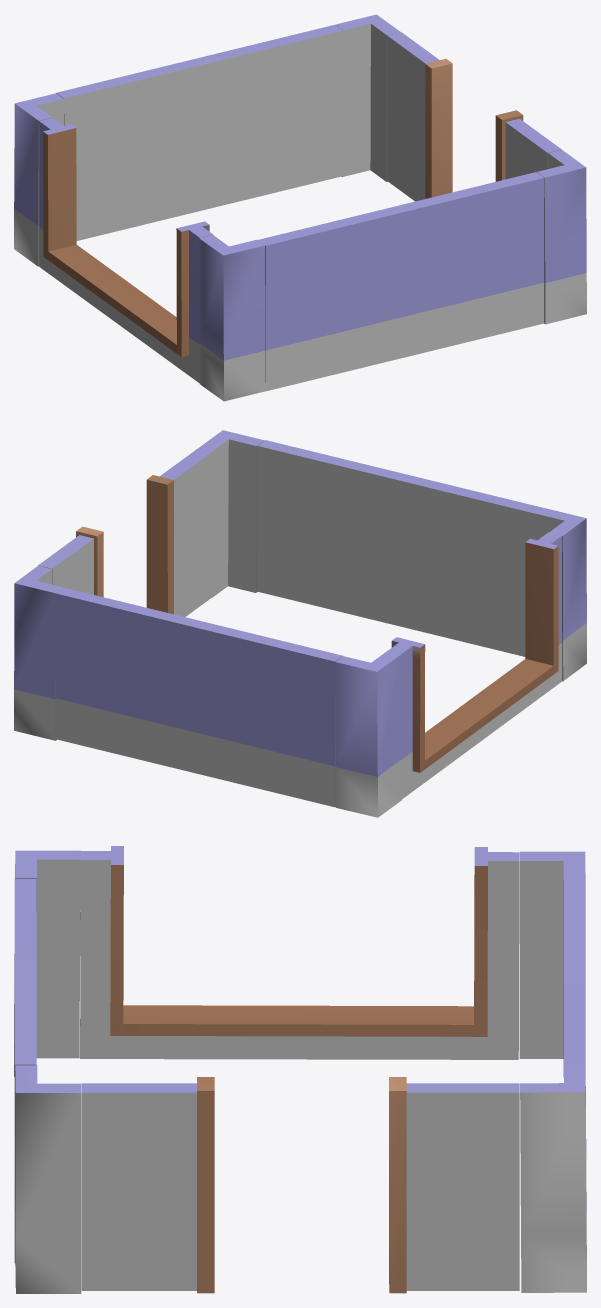
File: COCINA.fbx
3 views of the same model, one above another, from view 1: azimuth 30°, elevation 25°; view 2: azimuth 150°, elevation 25°; view 3: azimuth 270°, elevation 25° (orthographic). The views are drawn at different scales.
Parts seen in each view (by area): view 1: paret_basica29, paret_basica28, paret_con_ventana_grande26, paret_puerta52, paret_esquina41, paret_esquina_89, paret_esquina_95, paret_esquina38; view 2: paret_basica28, paret_basica29, paret_con_ventana_grande26, paret_puerta52, paret_esquina38, paret_esquina_95, paret_esquina_89, paret_esquina41; view 3: paret_puerta52, paret_con_ventana_grande26, paret_esquina_95, paret_esquina_89, paret_esquina41, paret_esquina38, paret_basica29, paret_basica28.
Boxes of the visible parts, box(x1,y1,x2,y2) form: paret_basica29: box(258, 172, 544, 391); paret_basica28: box(56, 25, 342, 240); paret_con_ventana_grande26: box(39, 118, 213, 382); paret_puerta52: box(387, 32, 561, 201); paret_esquina41: box(199, 235, 265, 401); paret_esquina_89: box(335, 14, 400, 181); paret_esquina_95: box(537, 150, 586, 324); paret_esquina38: box(14, 93, 64, 266); paret_basica28: box(56, 587, 342, 807); paret_basica29: box(257, 440, 544, 656); paret_con_ventana_grande26: box(388, 532, 562, 799); paret_puerta52: box(38, 448, 212, 616); paret_esquina38: box(335, 651, 401, 817); paret_esquina_95: box(199, 430, 264, 597); paret_esquina_89: box(14, 565, 63, 740); paret_esquina41: box(537, 508, 586, 681); paret_puerta52: box(81, 1077, 519, 1293); paret_con_ventana_grande26: box(80, 846, 519, 1059); paret_esquina_95: box(15, 1065, 81, 1293); paret_esquina_89: box(520, 1064, 586, 1292); paret_esquina41: box(14, 850, 80, 1076); paret_esquina38: box(519, 851, 585, 1077); paret_basica29: box(14, 879, 36, 1262); paret_basica28: box(564, 879, 585, 1064).
Size of the model in its own units: 888 by 341 by 865.
